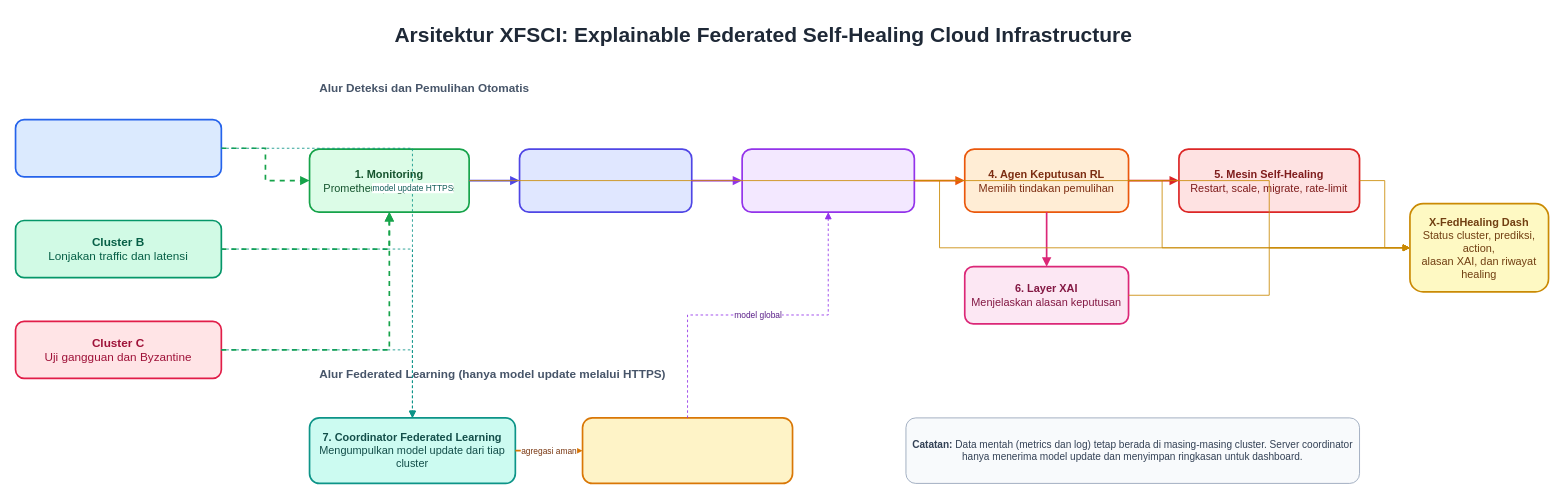
Some shapes in this 1563 by 498 pixel diagram are drawn without their labels. Each missing label, with the box of its shape:
2. Intelligence Cloud Topologi layanan dan dependensi: (518, 148, 692, 213)
3. Prediksi Kegagalan Deteksi anomali dan risk score: (741, 148, 915, 213)
8. Agregasi Tahan Byzantine Krum / Median / LASA menyaring update buruk: (581, 417, 793, 484)
Cluster A Beban normal dan stabil: (14, 118, 222, 177)
